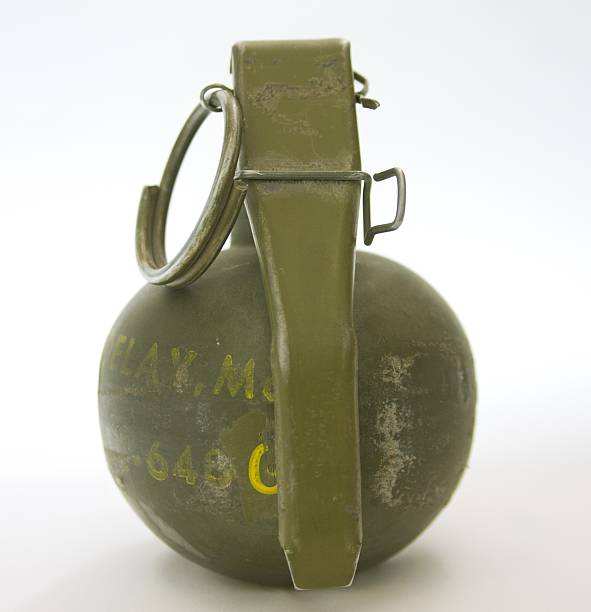e1: (102, 38, 479, 593)
